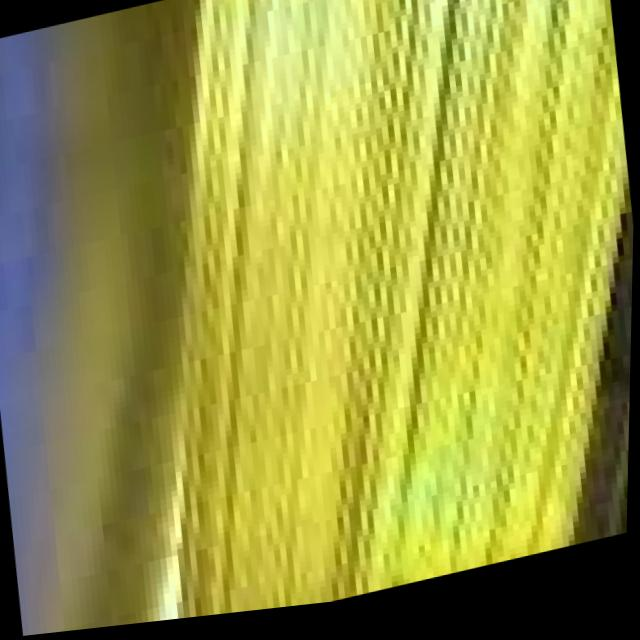metal-plates: (1, 1, 636, 638)
